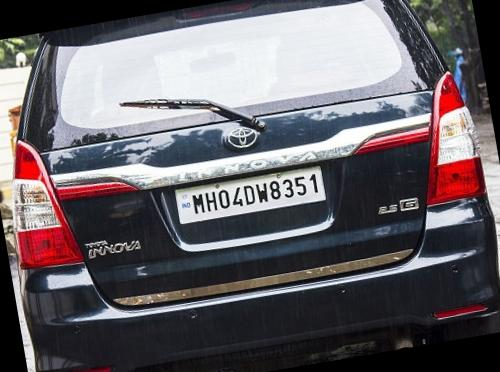plate: (156, 147, 348, 240)
